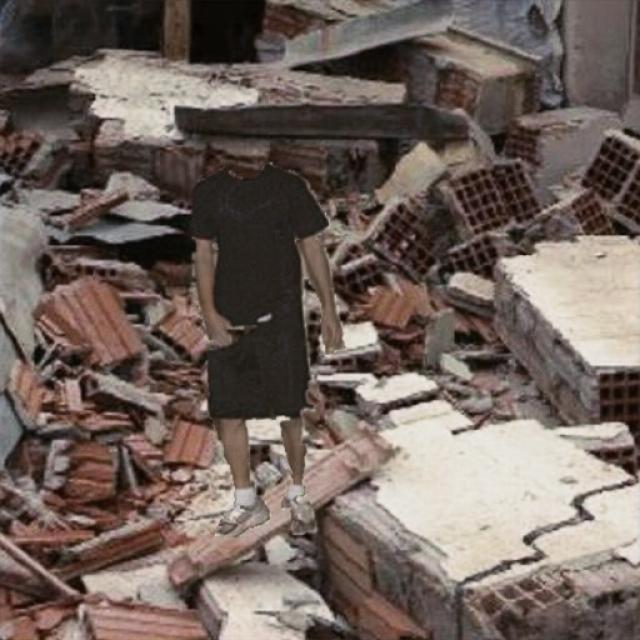Person in Rubble: (192, 163, 346, 536)
